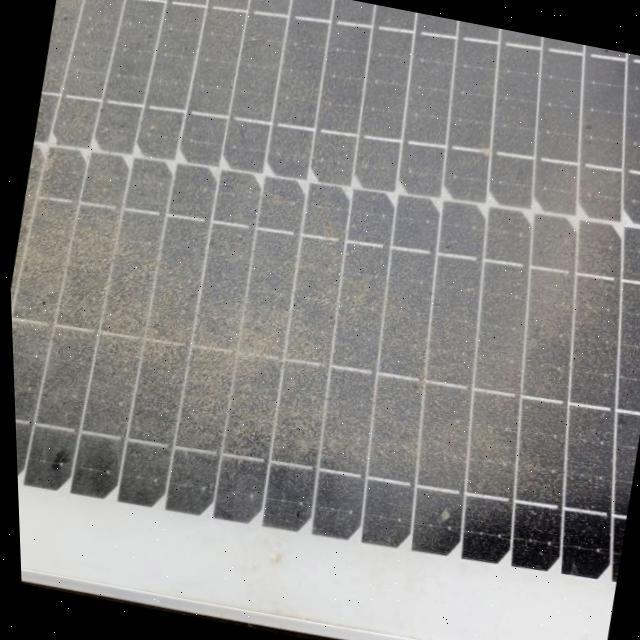Anomaly Solar Panel: (0, 0, 640, 587)
Surface Contaminant: (8, 0, 640, 588)
